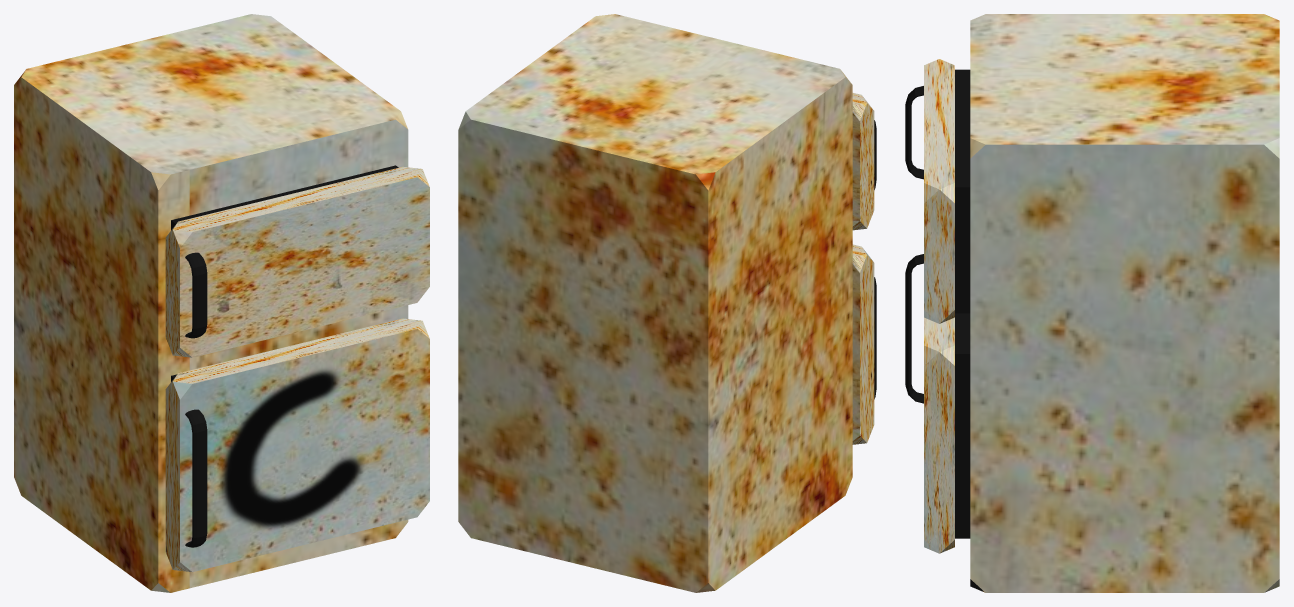
File: cumi6.gltf
3 renders of one model, left to right at view 1: azimuth 30°, elevation 25°; view 2: azimuth 150°, elevation 25°; view 3: azimuth 270°, elevation 25°, orthographic. The views are drawn at different scales.
Visible parts, largest first — view 1: Cube, Cube.002, Cube.001; view 2: Cube, Cube.002, Cube.001; view 3: Cube, Cube.001, Cube.002.
Boxes of the visible parts, bbox=[...] form: Cube: bbox=[14, 14, 408, 592]; Cube.002: bbox=[165, 318, 429, 572]; Cube.001: bbox=[165, 165, 429, 357]; Cube: bbox=[458, 14, 852, 592]; Cube.002: bbox=[852, 244, 876, 444]; Cube.001: bbox=[852, 93, 876, 230]; Cube: bbox=[970, 14, 1279, 592]; Cube.001: bbox=[905, 59, 970, 323]; Cube.002: bbox=[905, 254, 970, 553].
Size of the model in its own units: 2 by 3.2 by 2.42.
Materials: 1 (1 with a texture image).
